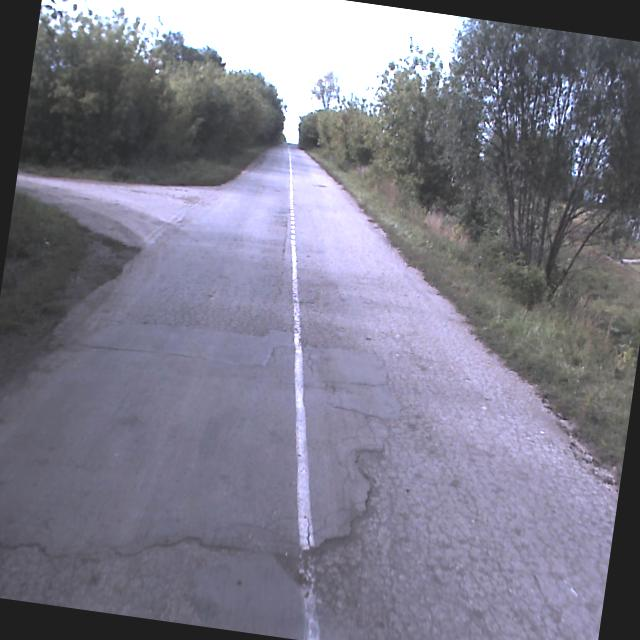road: (0, 143, 618, 640)
